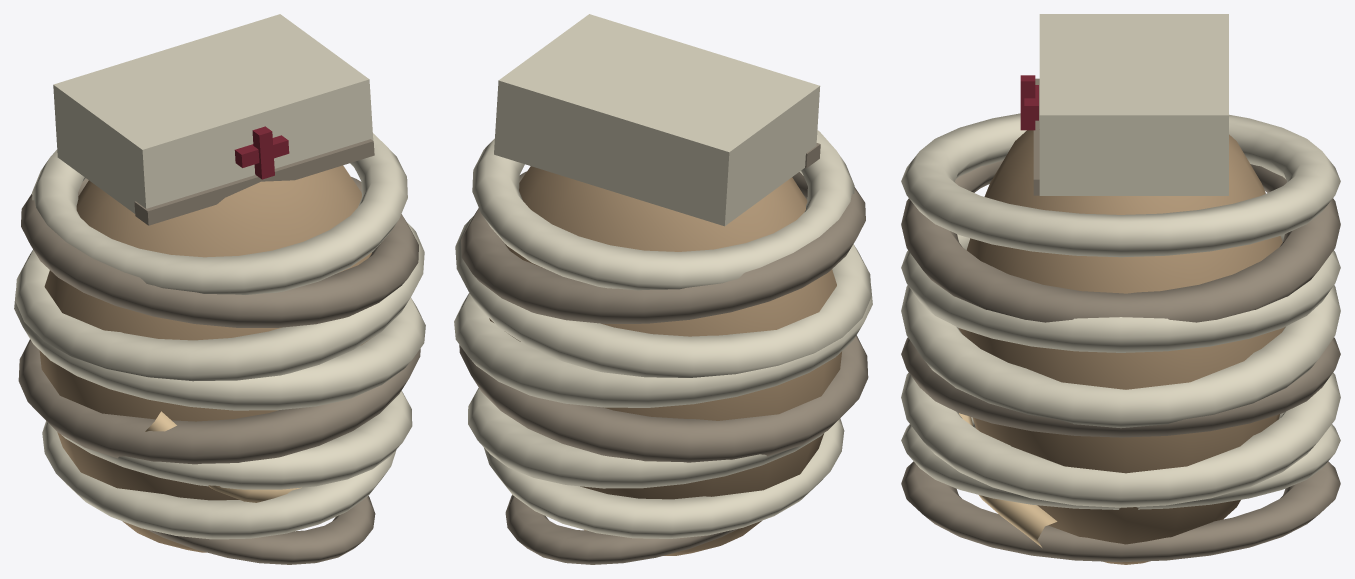
The model's file is mia-nurse-head.glb.
3 views of the same model, side by side, from view 1: azimuth 30°, elevation 25°; view 2: azimuth 150°, elevation 25°; view 3: azimuth 270°, elevation 25° (orthographic). The views are drawn at different scales.
Parts seen in each view (by area): view 1: Body_mattress, Body_mattress-seam, Body_page-beige, Body_velvet, Body_ivory; view 2: Body_mattress, Body_mattress-seam, Body_page-beige; view 3: Body_mattress, Body_mattress-seam, Body_page-beige, Body_ivory, Body_velvet.
Boxes of the visible parts, bbox=[...] form: Body_mattress: bbox=[14, 14, 425, 539]; Body_mattress-seam: bbox=[18, 139, 420, 564]; Body_page-beige: bbox=[39, 165, 371, 552]; Body_velvet: bbox=[234, 126, 289, 179]; Body_ivory: bbox=[145, 411, 301, 502]; Body_mattress: bbox=[454, 14, 872, 538]; Body_mattress-seam: bbox=[459, 143, 868, 564]; Body_page-beige: bbox=[489, 166, 841, 555]; Body_mattress: bbox=[901, 14, 1340, 509]; Body_mattress-seam: bbox=[901, 78, 1340, 562]; Body_page-beige: bbox=[958, 129, 1284, 564]; Body_ivory: bbox=[959, 413, 1057, 547]; Body_velvet: bbox=[1020, 75, 1038, 130].
Size of the model in its own units: 0.358 by 0.4457 by 0.36.
